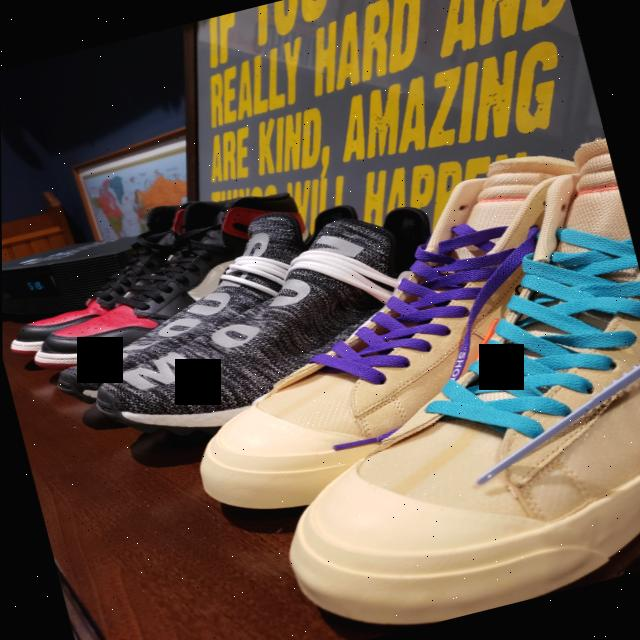shoes: (202, 127, 640, 640), (138, 127, 640, 554), (15, 162, 487, 490), (1, 159, 317, 386)
